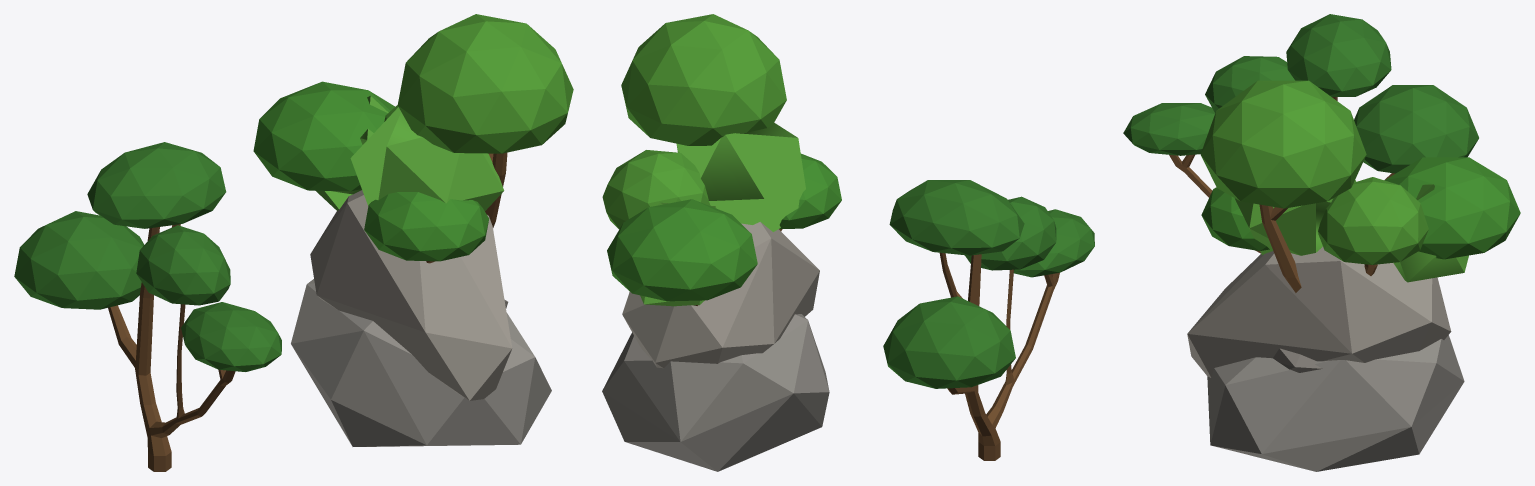
The model's file is lowpoly_pack.glb.
3 views of the same model, side by side, from view 1: azimuth 30°, elevation 25°; view 2: azimuth 150°, elevation 25°; view 3: azimuth 270°, elevation 25° (orthographic). The views are drawn at different scales.
Parts seen in each view (by area): view 1: Icosphere (×2), Cylinder002, Icosphere002, Icosphere001, Icosphere008; view 2: Icosphere (×2), Cylinder002, Icosphere002, Icosphere001, Icosphere008; view 3: Icosphere (×3), Icosphere002, Cylinder002, Icosphere001, Icosphere008.
Boxes of the visible parts, bbox=[...] form: Icosphere (×2): bbox=[291, 190, 551, 446]; Cylinder002: bbox=[14, 142, 281, 471]; Icosphere002: bbox=[384, 14, 573, 227]; Icosphere001: bbox=[253, 81, 488, 263]; Icosphere008: bbox=[315, 96, 504, 210]; Icosphere (×2): bbox=[602, 222, 829, 471]; Cylinder002: bbox=[883, 180, 1094, 460]; Icosphere002: bbox=[602, 14, 786, 229]; Icosphere001: bbox=[607, 153, 841, 305]; Icosphere008: bbox=[640, 122, 805, 306]; Icosphere (×3): bbox=[1187, 247, 1464, 471]; Icosphere002: bbox=[1200, 80, 1428, 292]; Cylinder002: bbox=[1123, 14, 1478, 197]; Icosphere001: bbox=[1201, 157, 1520, 259]; Icosphere008: bbox=[1235, 180, 1468, 282].
Size of the model in its own units: 4.98 by 4.1 by 4.
